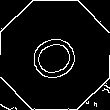O_E: (23, 25, 87, 85)
